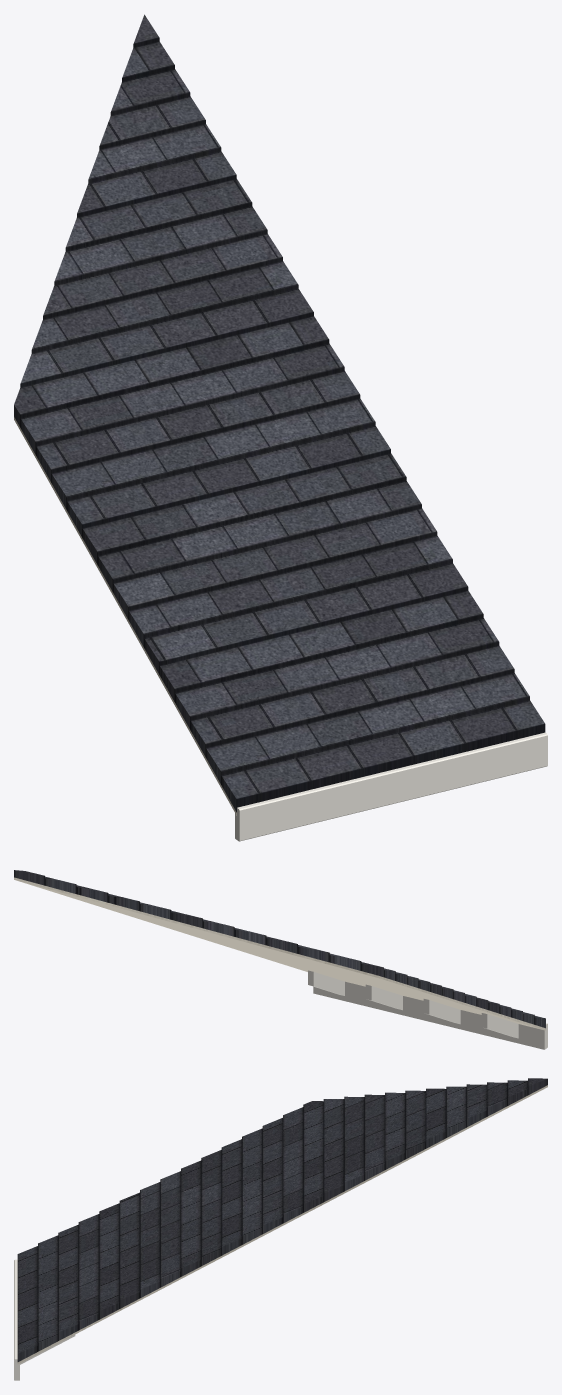
Rendered from roof_main_4_l_porch.glb.
3 renders of one model, top to bottom at view 1: azimuth 30°, elevation 25°; view 2: azimuth 150°, elevation 25°; view 3: azimuth 270°, elevation 25°, orthographic. The views are drawn at different scales.
Visible parts, largest first — view 1: roof_main_4_l_porch_shingles, roof_main_4_l_porch_trim, roof_main_4_l_porch_plaster; view 2: roof_main_4_l_porch_shingles, roof_main_4_l_porch_plaster, roof_main_4_l_porch_trim; view 3: roof_main_4_l_porch_shingles, roof_main_4_l_porch_plaster, roof_main_4_l_porch_trim.
Part boxes in pixels (<box>): roof_main_4_l_porch_shingles: <box>14,14,545,812</box>; roof_main_4_l_porch_trim: <box>235,732,547,841</box>; roof_main_4_l_porch_plaster: <box>14,417,236,815</box>; roof_main_4_l_porch_shingles: <box>14,870,545,1028</box>; roof_main_4_l_porch_plaster: <box>14,877,545,1030</box>; roof_main_4_l_porch_trim: <box>308,970,547,1049</box>; roof_main_4_l_porch_shingles: <box>17,1078,547,1361</box>; roof_main_4_l_porch_plaster: <box>17,1085,547,1364</box>; roof_main_4_l_porch_trim: <box>14,1259,75,1380</box>.
Bounding box in the file's own units: 2 × 2.83 × 4.53.
Materials: 3 (2 with a texture image).
